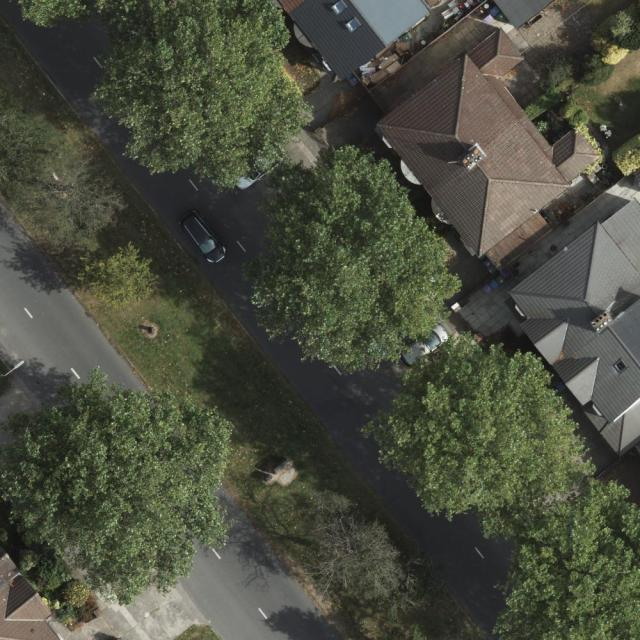roof: (370, 26, 602, 261), (511, 197, 640, 457), (274, 0, 442, 86), (0, 547, 61, 640)
skylight: (344, 15, 364, 33), (329, 0, 350, 16), (611, 356, 629, 374)
